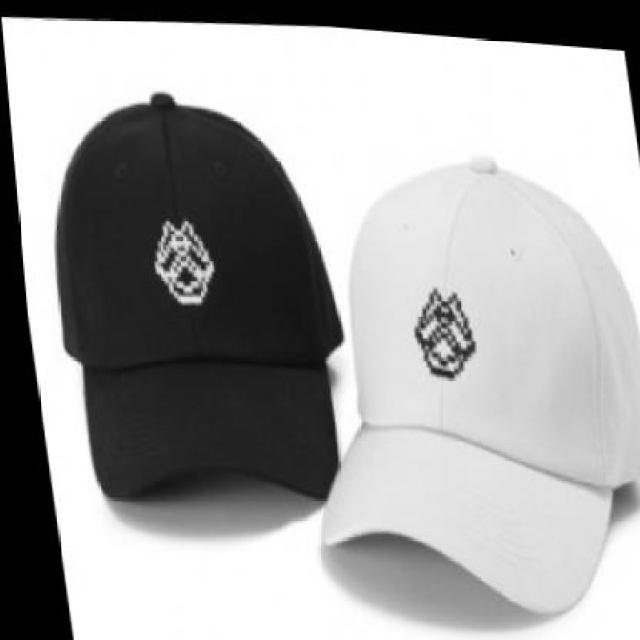hat: (260, 122, 640, 628), (22, 69, 360, 516)
